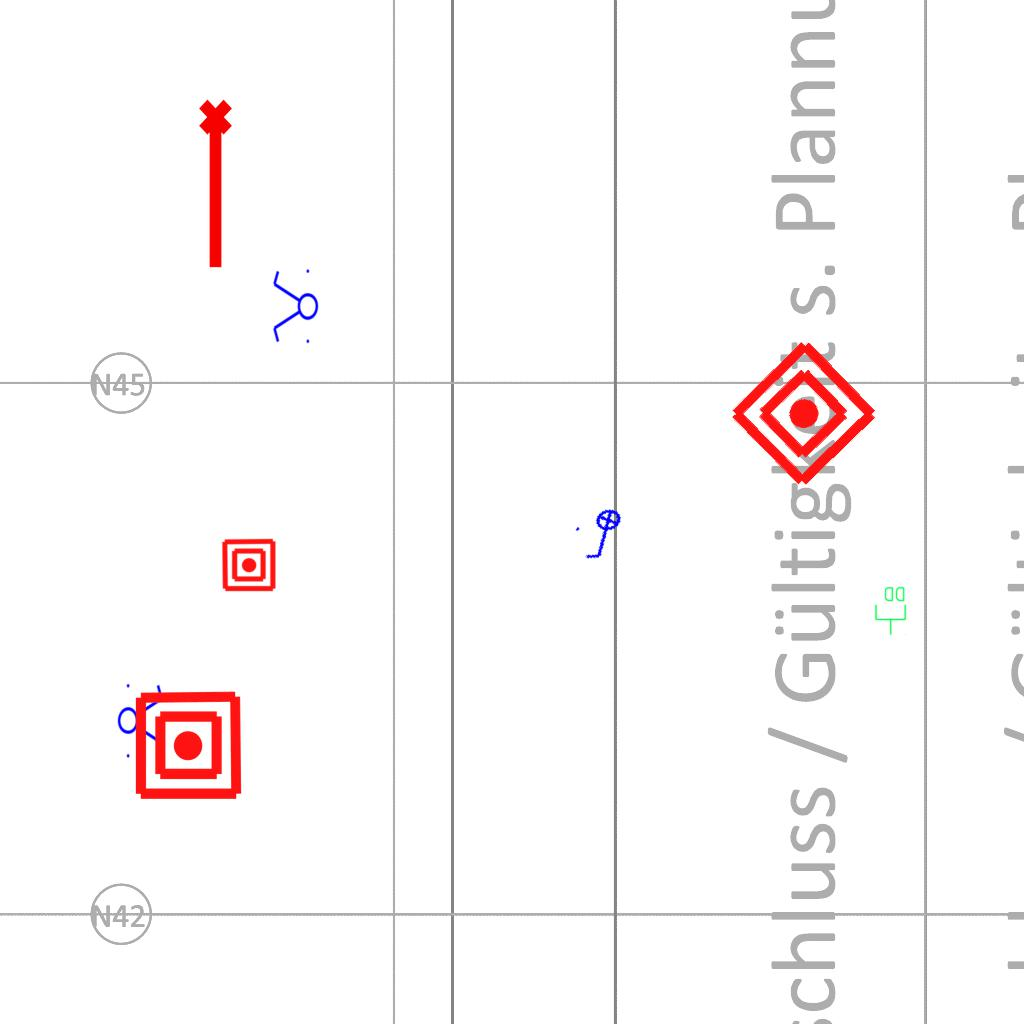ASR_Ansaugoeffnung: (195, 97, 241, 273)
Ausschalter_beleuchtet: (570, 503, 638, 567)
Datenanschluss_zweifach: (874, 585, 908, 636)
NAM-Nichtautomatischer_Melder: (723, 333, 884, 494), (132, 689, 245, 802), (221, 537, 277, 593)
Serienschalter: (117, 678, 165, 762), (271, 265, 319, 349)
